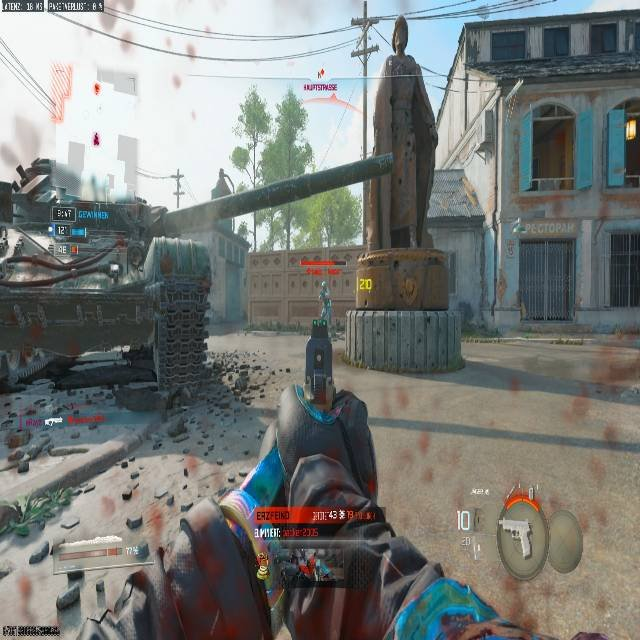player: (318, 285, 332, 320)
